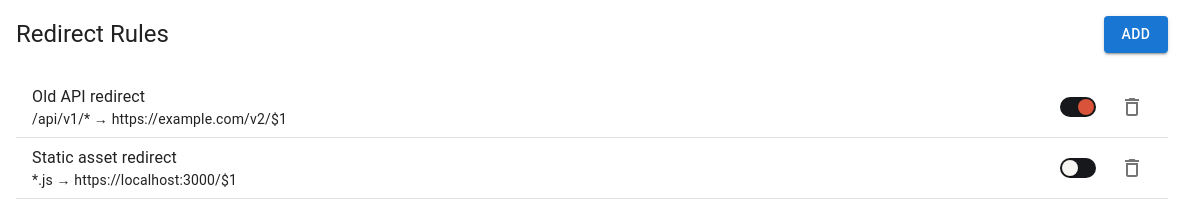
Test: RedirectRulesPage › removes a row when its delete button is clicked, without navigating
Click the button named "Delete Old API redirect" at (1132, 106), box [1112,86,1152,126]
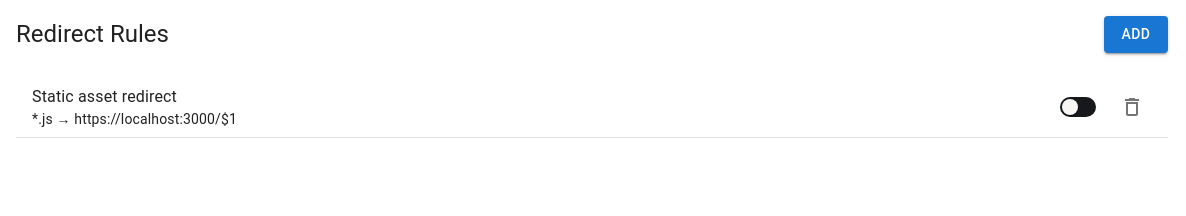
Expected: the text "Static asset redirect" is shown, [32,86,177,106]
Expected: the button "Old API redirect" is gone
